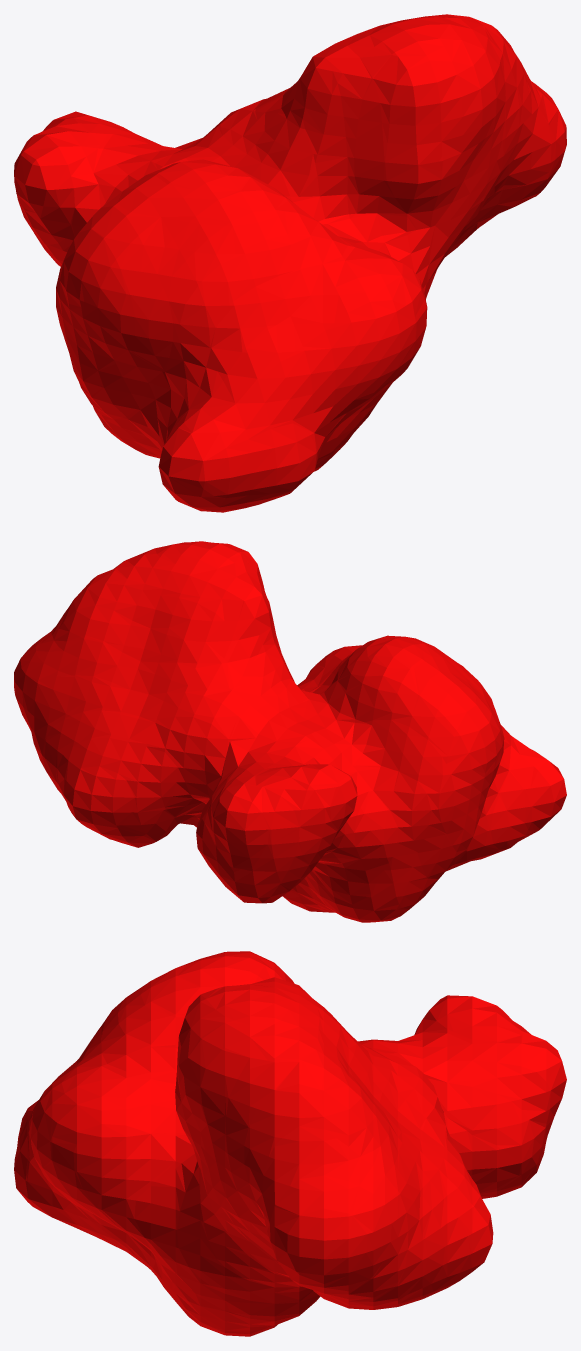
Rendered from mntR_coarse.dae.
3 renders of one model, top to bottom at view 1: azimuth 30°, elevation 25°; view 2: azimuth 150°, elevation 25°; view 3: azimuth 270°, elevation 25°, orthographic. The views are drawn at different scales.
Parts seen in each view (by area): view 1: mntR; view 2: mntR; view 3: mntR.
Boxes of the visible parts, x1,y1,x2,y2 form: mntR: (14, 14, 566, 512); mntR: (14, 541, 566, 922); mntR: (14, 951, 566, 1336).
Size of the model in its own units: 52.5 by 38.62 by 47.79.
